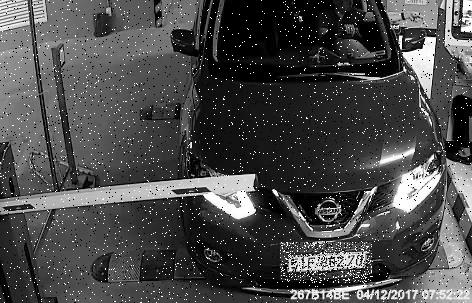License-plate: (281, 243, 373, 284)
